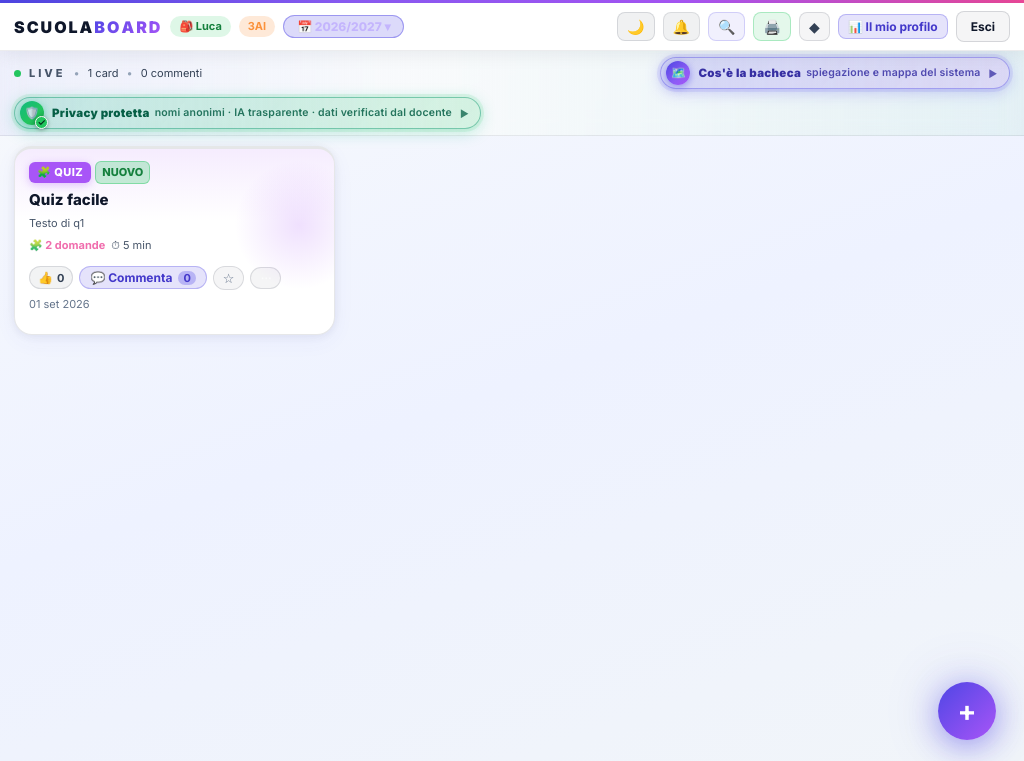
Test: Quiz interattivo (studente) › assegna il punteggio pieno con tutte le risposte corrette
This screenshot has width=1024, height=761.
Click the text "Quiz facile". click: (69, 199)
box: [29,190,109,208]
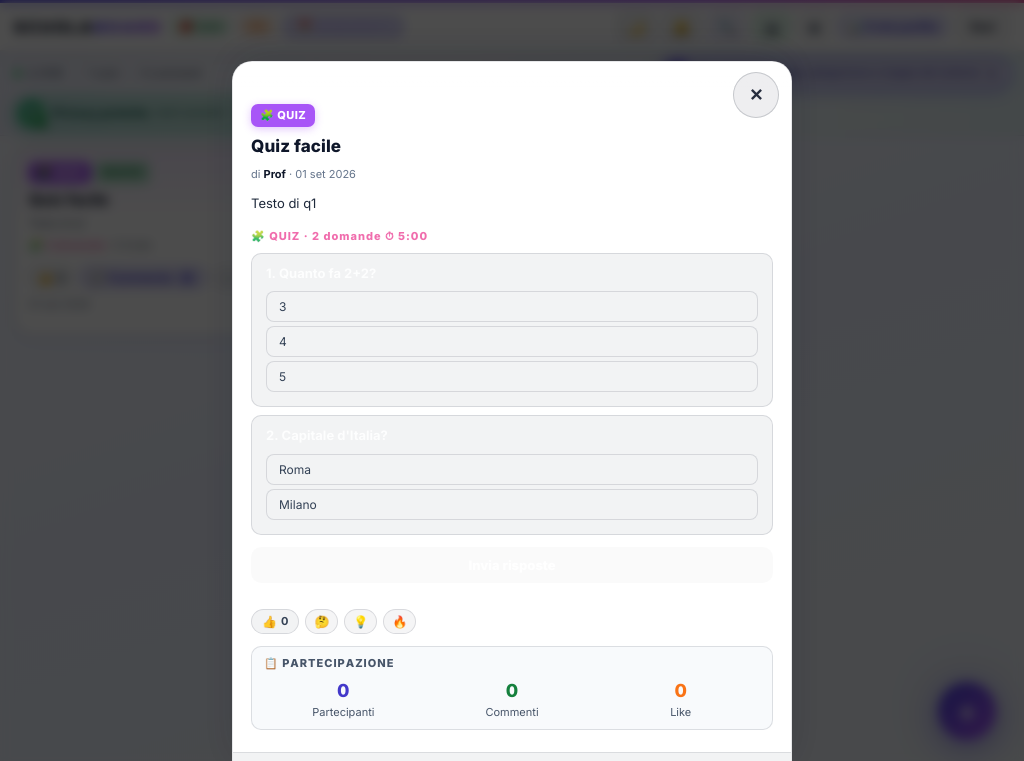
Expected: the text "🧩 QUIZ · 2 domande ⏱ 5:00" is shown, [251,230,428,244]
Click the button "4". click: (283, 342)
box: [266,326,758,358]
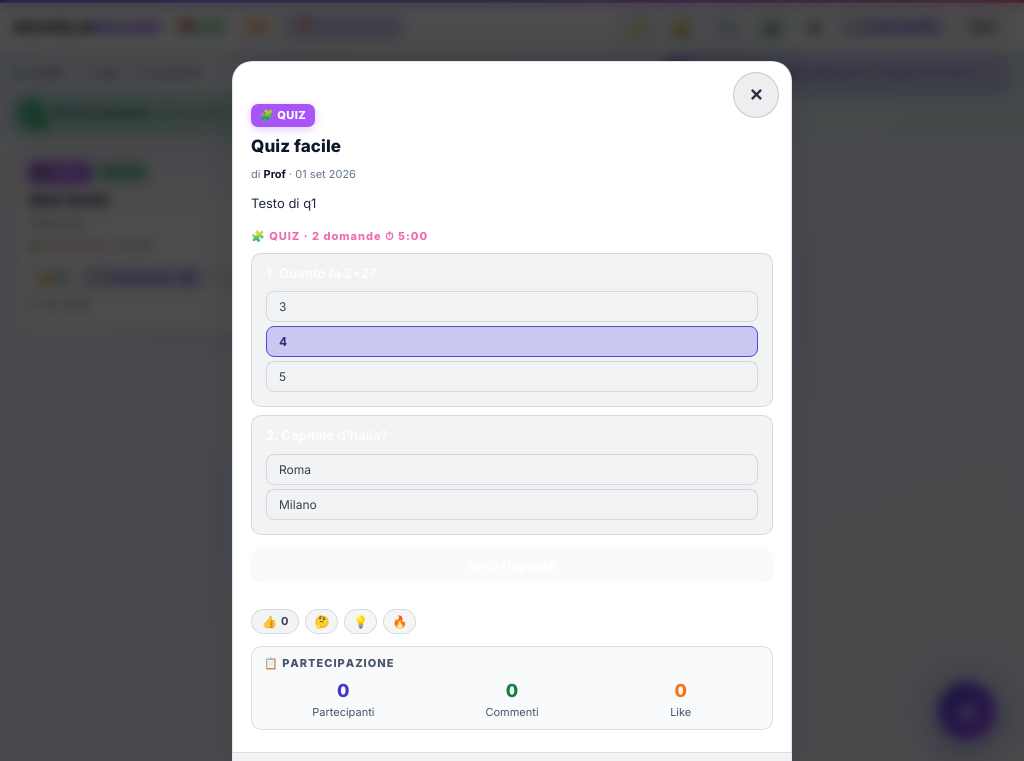
Click the button "Roma". click: (295, 469)
box: [266,454,758,485]
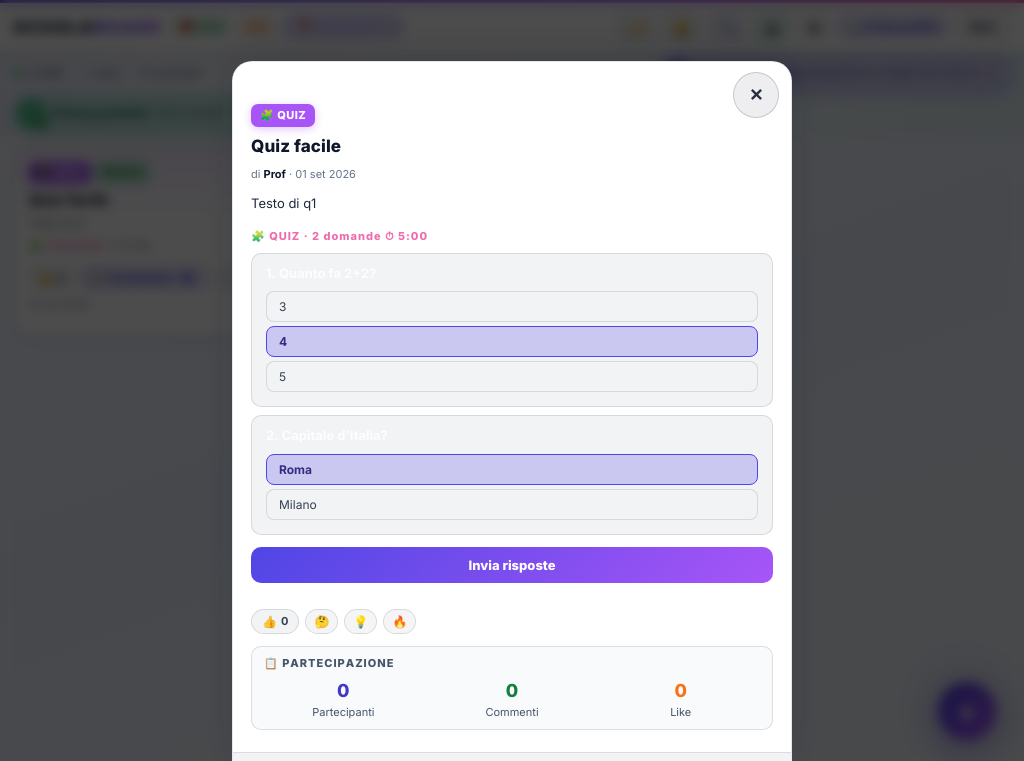
Click the button "Invia risposte". click: (512, 565)
box: [251,547,773,583]
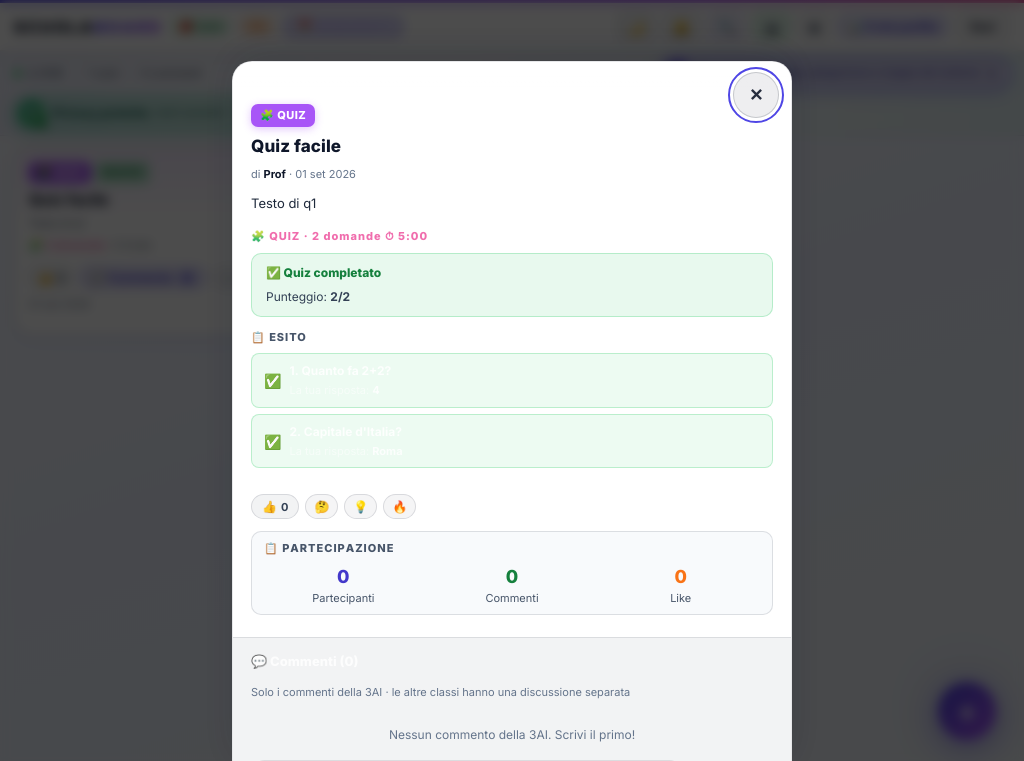
Expected: the text "✅ Quiz completato" is shown, [266,265,381,280]
Expected: the text "2/2" is shown, [330,289,350,304]
